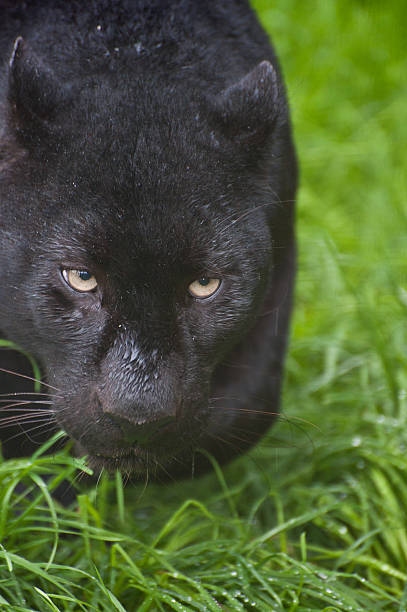panther: (2, 27, 299, 476)
